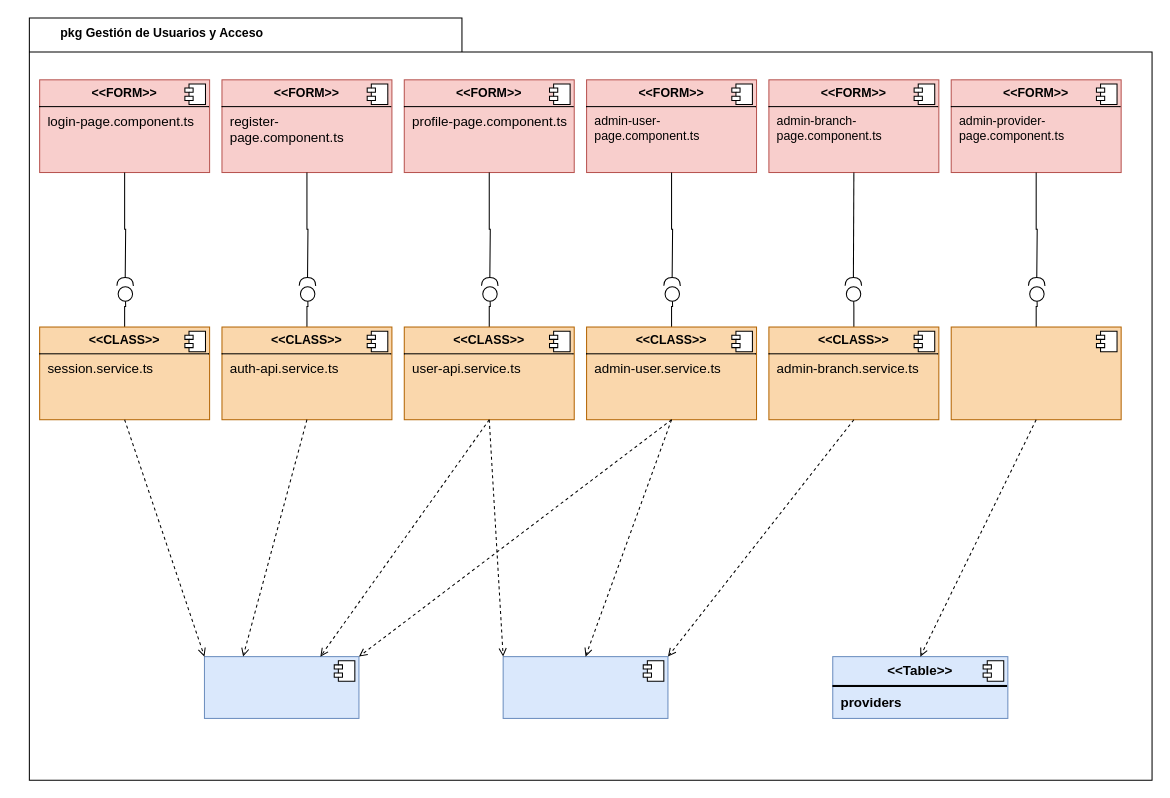
Image size: 1170x798. Some labels were removed from this diagram. The shapes that lost their labels are listed below. From the top down, each one's box as (x1, y1, x2, y2) in pixels, then its label:
(950, 326, 1121, 420): <<CLASS>> admin-provider.service.ts
(203, 656, 359, 718): <<Table>> users
(502, 656, 668, 718): <<Table>> branches
